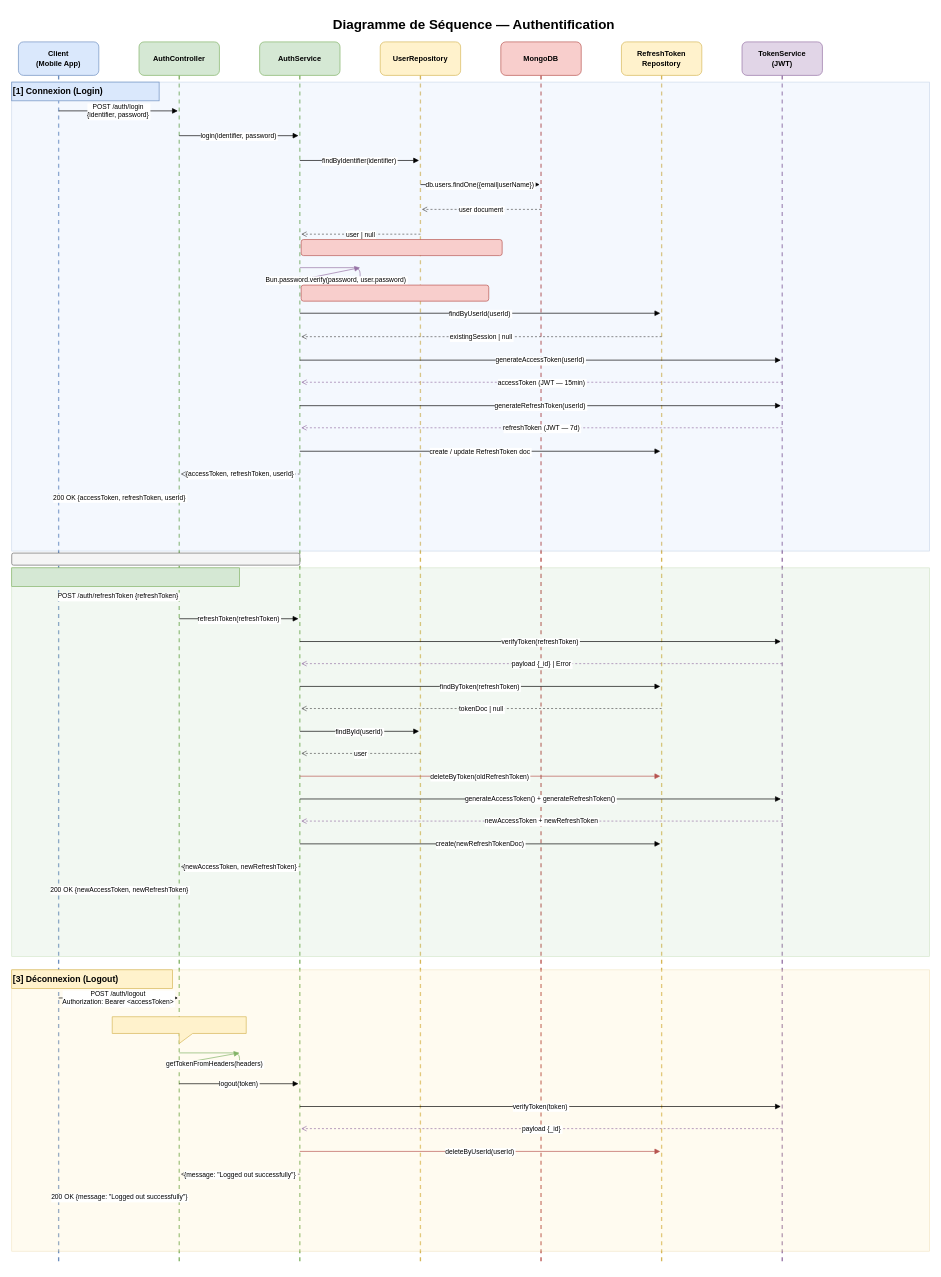
Image size: 941x1277. Some labels were removed from this diagram. The shapes that lost their labels are listed below. From the top down, each one's centre as x and y in pixels, then its label:
pixel 401 247: [alt] user == null → return 404 User not found
pixel 394 292: [alt] !isMatch → return 401 Invalid password
pixel 125 577: [2] Rafraîchissement du Token (Refresh Token)
pixel 155 558: → Appel (request) ⤏ Retour (response, dashed) [alt] Cas alternatif / erreur
pixel 179 1030: authMiddleware: vérifier le token Bearer
